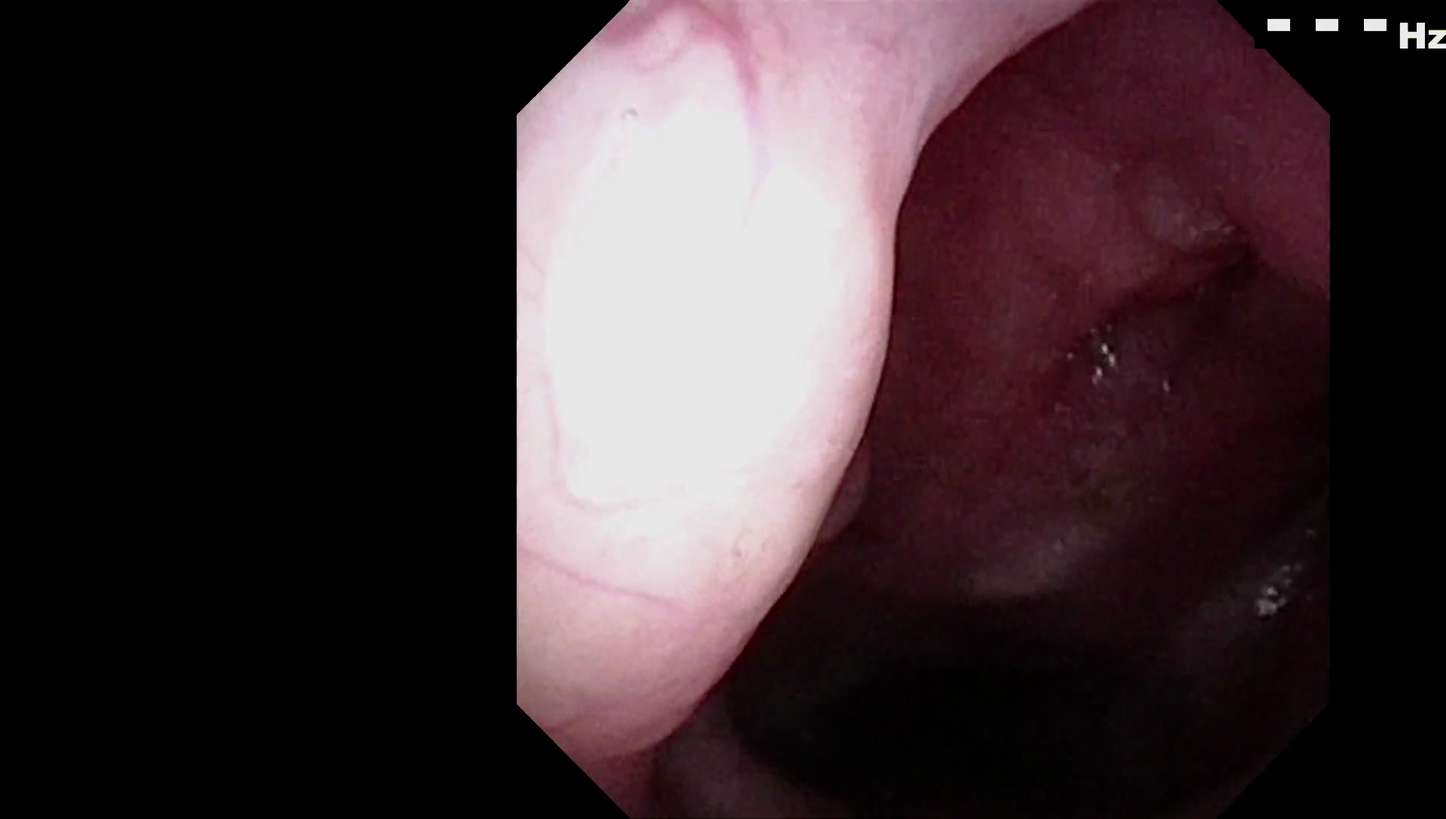close_wall: (542, 120, 932, 678)
next: (900, 555, 1229, 819), (711, 506, 967, 805)
